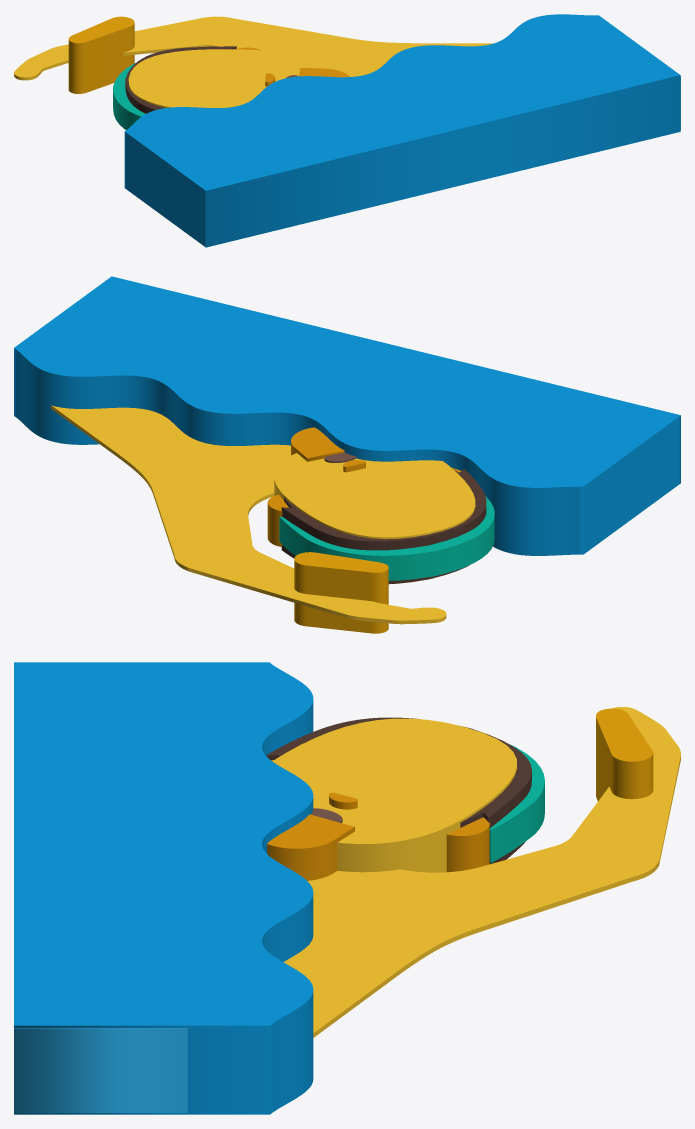
Rendered from emoji_u1f3ca_200d_2642.glb.
The picture shows the model from 3 angles, top to bottom: view 1: azimuth 30°, elevation 25°; view 2: azimuth 150°, elevation 25°; view 3: azimuth 270°, elevation 25°; orthographic projection. The views are drawn at different scales.
Visible parts, largest first — view 1: emoji_u1f3ca_200d_2642; view 2: emoji_u1f3ca_200d_2642; view 3: emoji_u1f3ca_200d_2642.
Boxes of the visible parts, x1,y1,x2,y2 form: emoji_u1f3ca_200d_2642: (14, 14, 680, 247); emoji_u1f3ca_200d_2642: (14, 276, 680, 633); emoji_u1f3ca_200d_2642: (14, 662, 680, 1114).
Bounding box in the file's own units: 0.0333 × 0.0038 × 0.0258.
